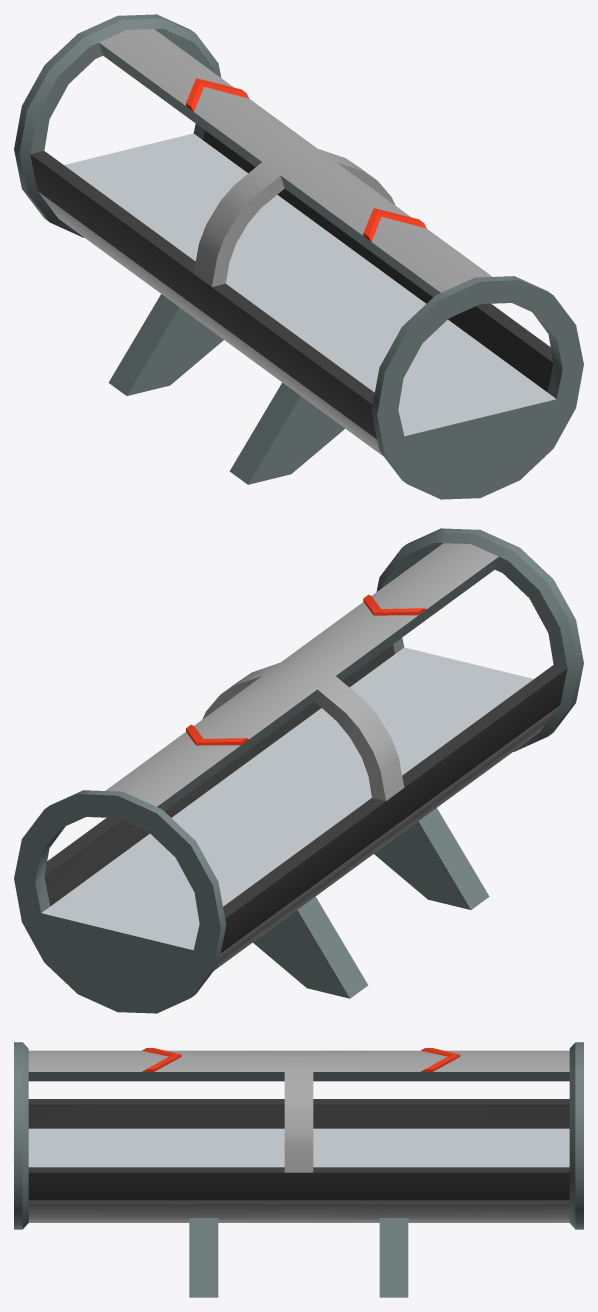
The model's file is m_ConveyorHousing.fbx.
3 views of the same model, one above another, from view 1: azimuth 30°, elevation 25°; view 2: azimuth 150°, elevation 25°; view 3: azimuth 270°, elevation 25° (orthographic). The views are drawn at different scales.
Parts seen in each view (by area): view 1: ConveyorHousing; view 2: ConveyorHousing; view 3: ConveyorHousing.
Boxes of the visible parts, x1,y1,x2,y2 form: ConveyorHousing: (14, 14, 583, 499); ConveyorHousing: (14, 528, 583, 1013); ConveyorHousing: (14, 1042, 583, 1297).
Bounding box in the file's own units: 38.42 × 38.83 × 100.
